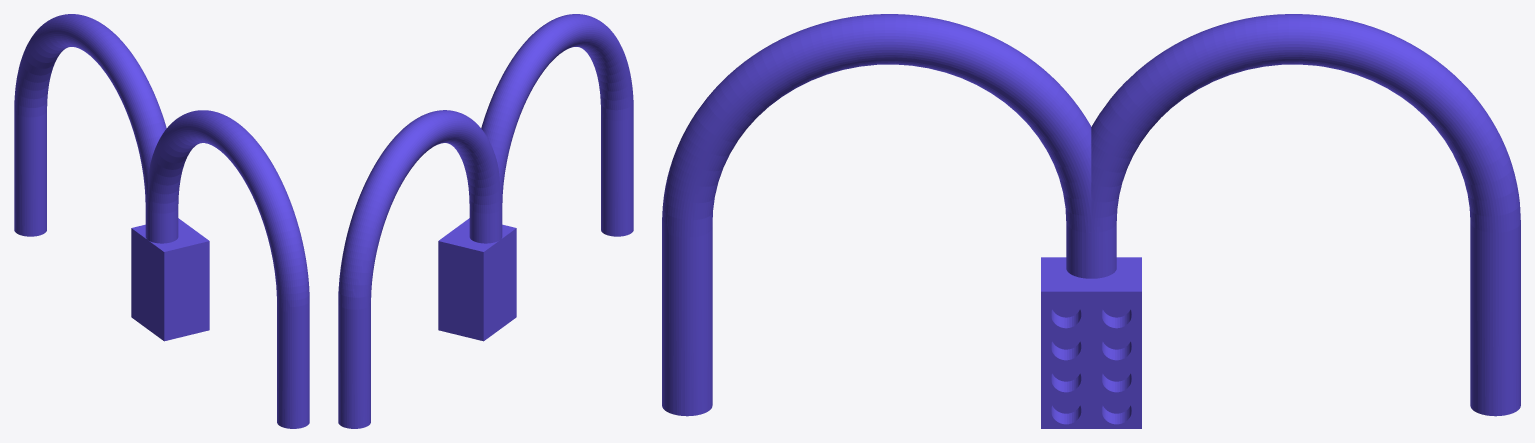
The model's file is gancho_eletroquad.dae.
3 renders of one model, left to right at view 1: azimuth 30°, elevation 25°; view 2: azimuth 150°, elevation 25°; view 3: azimuth 270°, elevation 25°, orthographic. The views are drawn at different scales.
Visible parts, largest first — view 1: Gancho; view 2: Gancho; view 3: Gancho.
Boxes of the visible parts, <box> form: Gancho: <box>14,14,309,428</box>; Gancho: <box>338,14,633,428</box>; Gancho: <box>662,14,1520,428</box>.
Size of the model in its own units: 0.016 by 0.17 by 0.085.
